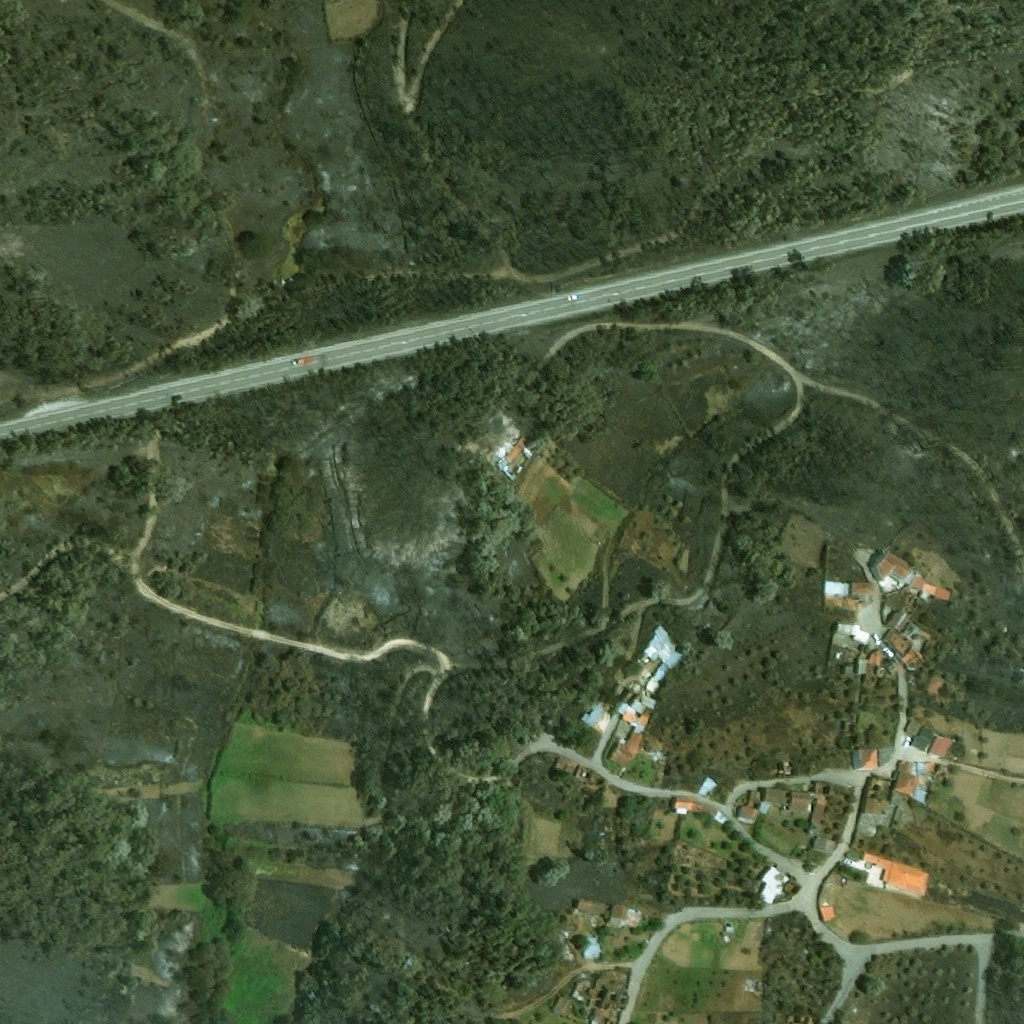0 no-damage: (862, 853, 931, 897), (640, 623, 692, 680), (613, 676, 661, 728), (893, 759, 938, 806), (869, 550, 918, 592), (735, 786, 785, 827), (492, 435, 536, 481), (904, 719, 954, 759), (574, 898, 645, 926), (669, 799, 729, 827), (608, 730, 646, 770), (786, 790, 828, 823), (909, 573, 954, 600), (575, 698, 608, 730), (835, 622, 871, 645), (851, 748, 878, 771), (812, 834, 838, 857), (696, 776, 719, 798), (550, 995, 571, 1016), (877, 744, 896, 766), (582, 938, 602, 958), (571, 982, 591, 1001), (818, 904, 838, 923), (823, 581, 849, 595), (850, 582, 875, 595), (401, 954, 418, 972), (756, 980, 767, 993), (726, 926, 735, 933)
1 minor-damage: (756, 865, 791, 906)
2 major-damage: (881, 621, 935, 670), (853, 650, 897, 685), (553, 754, 579, 777), (833, 643, 859, 665)
3 destroyed: (853, 773, 895, 838), (585, 968, 629, 1023), (887, 586, 921, 632), (575, 765, 609, 795), (1000, 786, 1023, 827), (848, 832, 868, 853), (510, 420, 516, 425)
4 un-classified: (522, 929, 545, 944)
